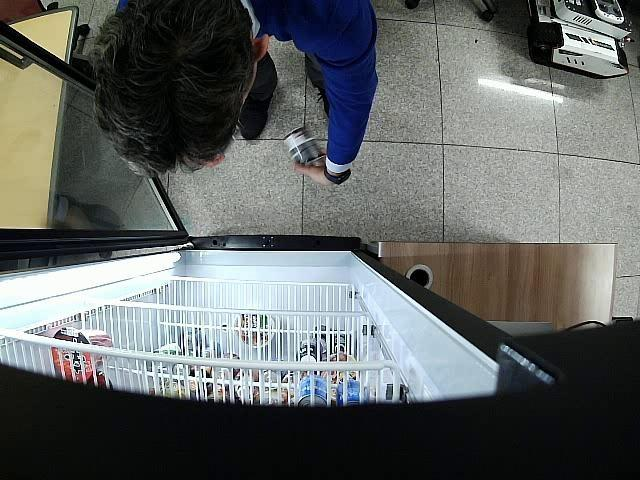08_buldak_S: (284, 128, 326, 163)
